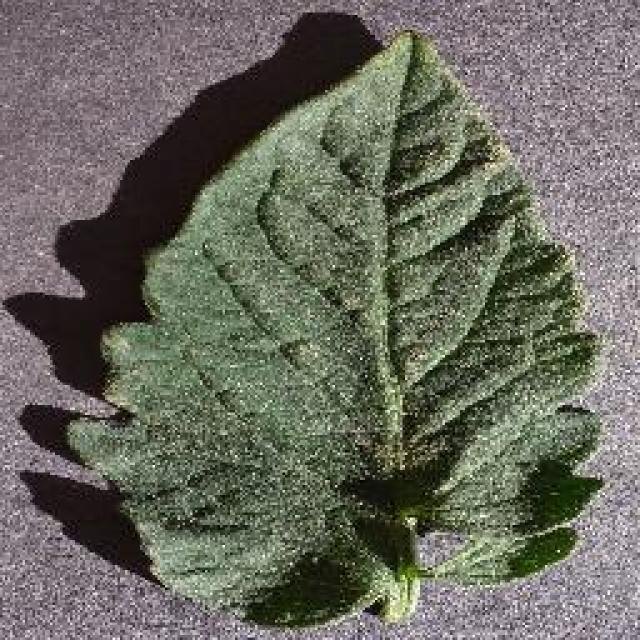healthy: (63, 31, 611, 628)
